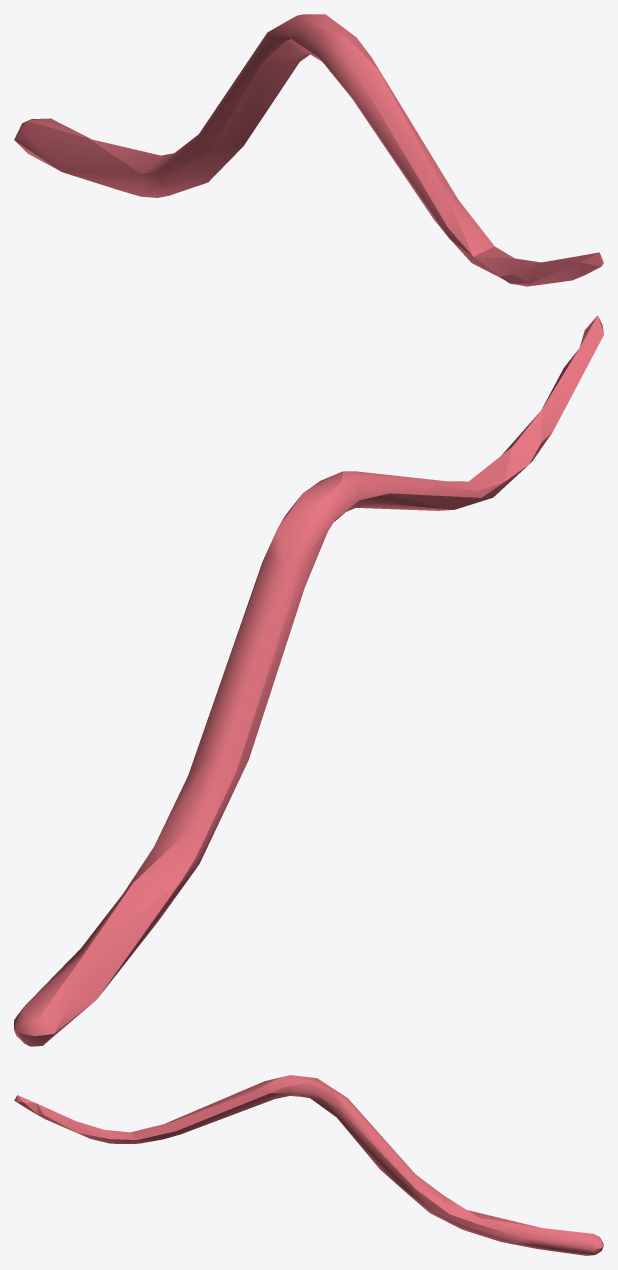
Rendered from fma51307_fj4682.glb.
3 views of the same model, one above another, from view 1: azimuth 30°, elevation 25°; view 2: azimuth 150°, elevation 25°; view 3: azimuth 270°, elevation 25° (orthographic). The views are drawn at different scales.
Visible parts, largest first — view 1: FMA51307_FJ4682; view 2: FMA51307_FJ4682; view 3: FMA51307_FJ4682.
Part boxes in pixels (x1,y1,x2,y2): FMA51307_FJ4682: (14,14,603,286); FMA51307_FJ4682: (14,315,603,1046); FMA51307_FJ4682: (14,1075,603,1255).
Size of the model in its own units: 0.000775 by 0.00588 by 0.0177.
